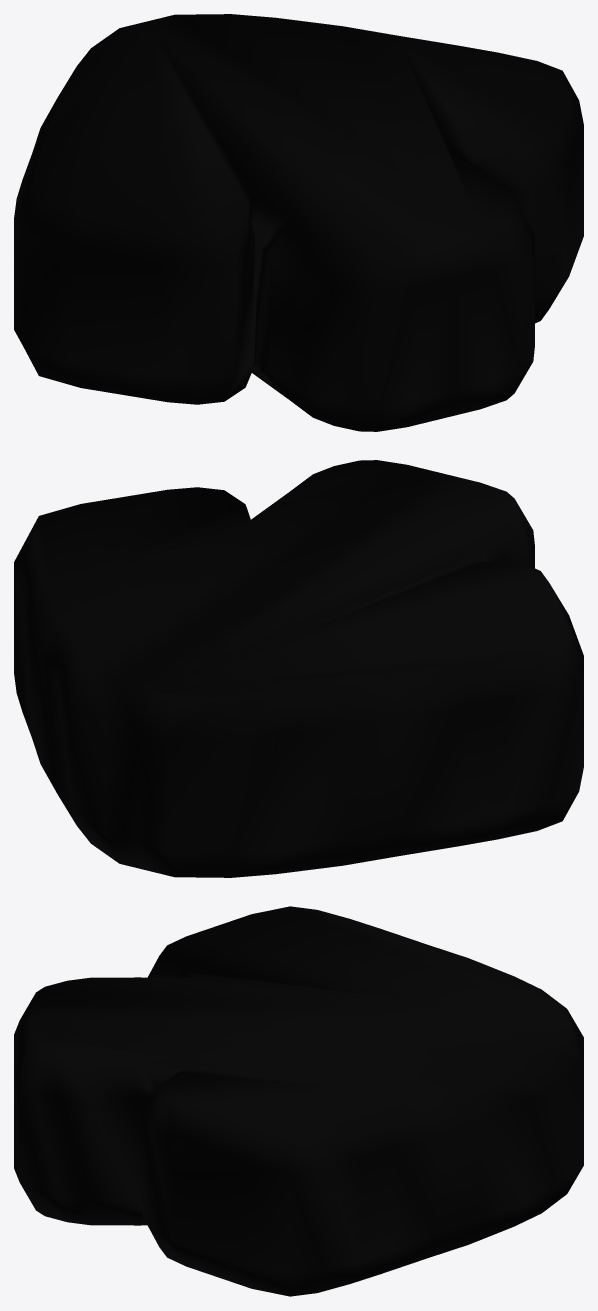
The model's file is Fixed_Arrow_The_Second.fbx.
The picture shows the model from 3 angles, top to bottom: view 1: azimuth 30°, elevation 25°; view 2: azimuth 150°, elevation 25°; view 3: azimuth 270°, elevation 25°; orthographic projection. The views are drawn at different scales.
Visible parts, largest first — view 1: Black CellShade; view 2: Black CellShade; view 3: Black CellShade.
Boxes of the visible parts, x1=… form: Black CellShade: x1=14, y1=14, x2=583, y2=431; Black CellShade: x1=14, y1=460, x2=583, y2=877; Black CellShade: x1=14, y1=906, x2=583, y2=1296.
Bounding box in the file's own units: 26046 × 8095 × 25689.
1 material, 1 textured.
